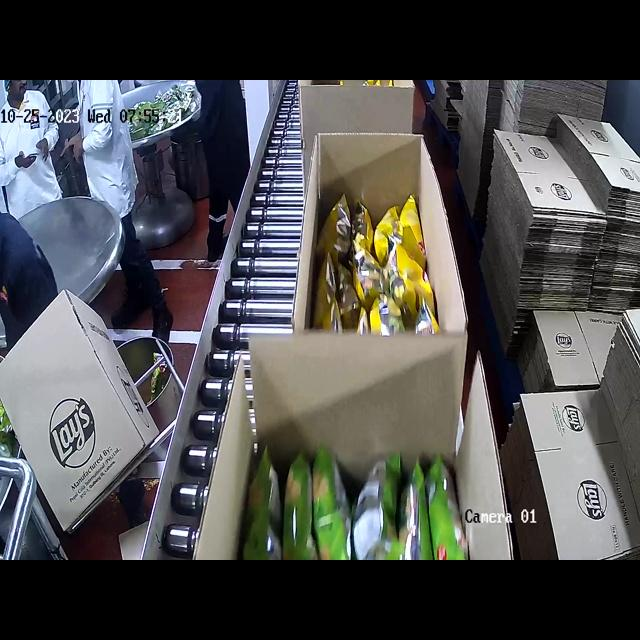salted: (318, 189, 441, 340)
yogurt: (230, 414, 449, 560)
